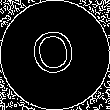O_S: (28, 25, 82, 85)
